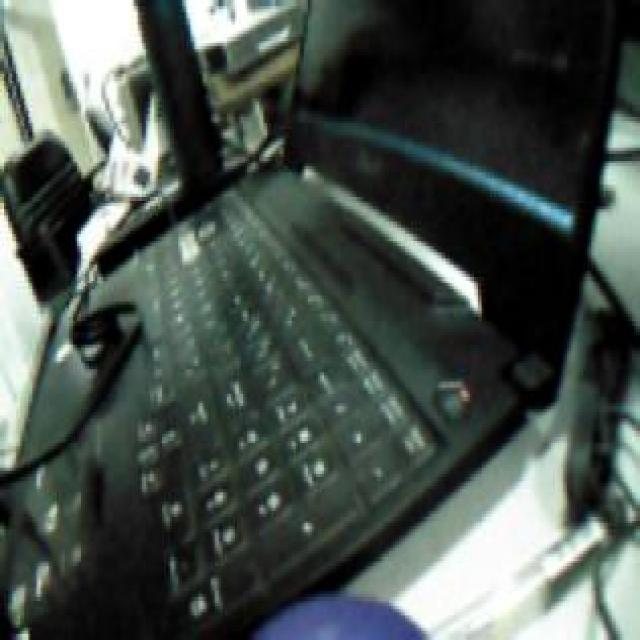BallPurple: (252, 594, 433, 640)
